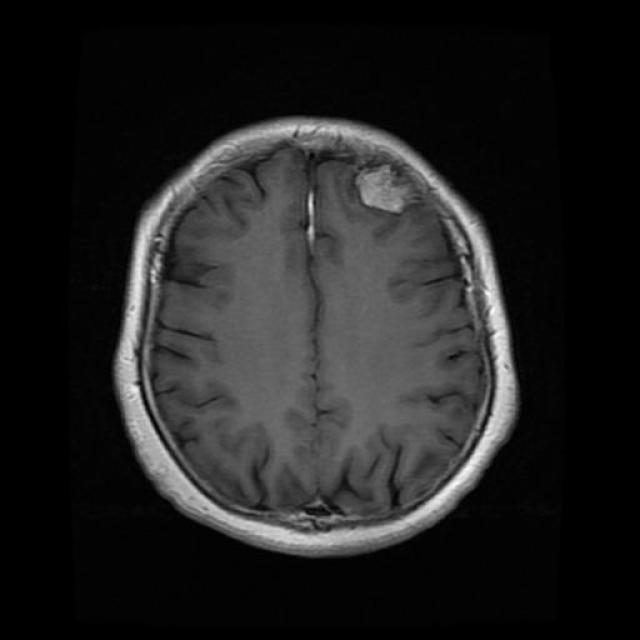Meningioma: (355, 164, 413, 213)
